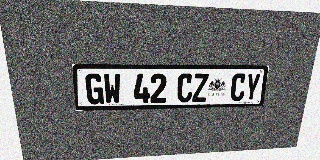2: (150, 73, 167, 103)
4: (134, 73, 150, 103)
C: (230, 73, 247, 101), (177, 73, 193, 102)
G: (85, 73, 104, 105)
W: (103, 73, 121, 104)
Y: (244, 73, 261, 101)
Z: (192, 73, 209, 102)
